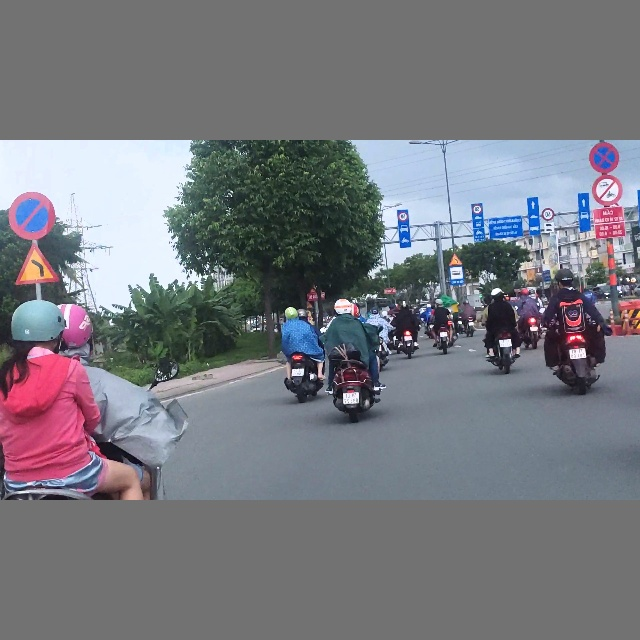I.434a: (449, 264, 464, 285)
P.111: (592, 174, 623, 205)
P.127*50: (398, 211, 408, 221), (472, 205, 482, 214)
P.127*60: (542, 208, 554, 220)
P.130: (589, 142, 620, 173)
P.131a: (8, 190, 57, 241)
S.505a*Xe tai va cong: (544, 222, 555, 233)
W.201b: (15, 241, 62, 285), (448, 253, 464, 266)
